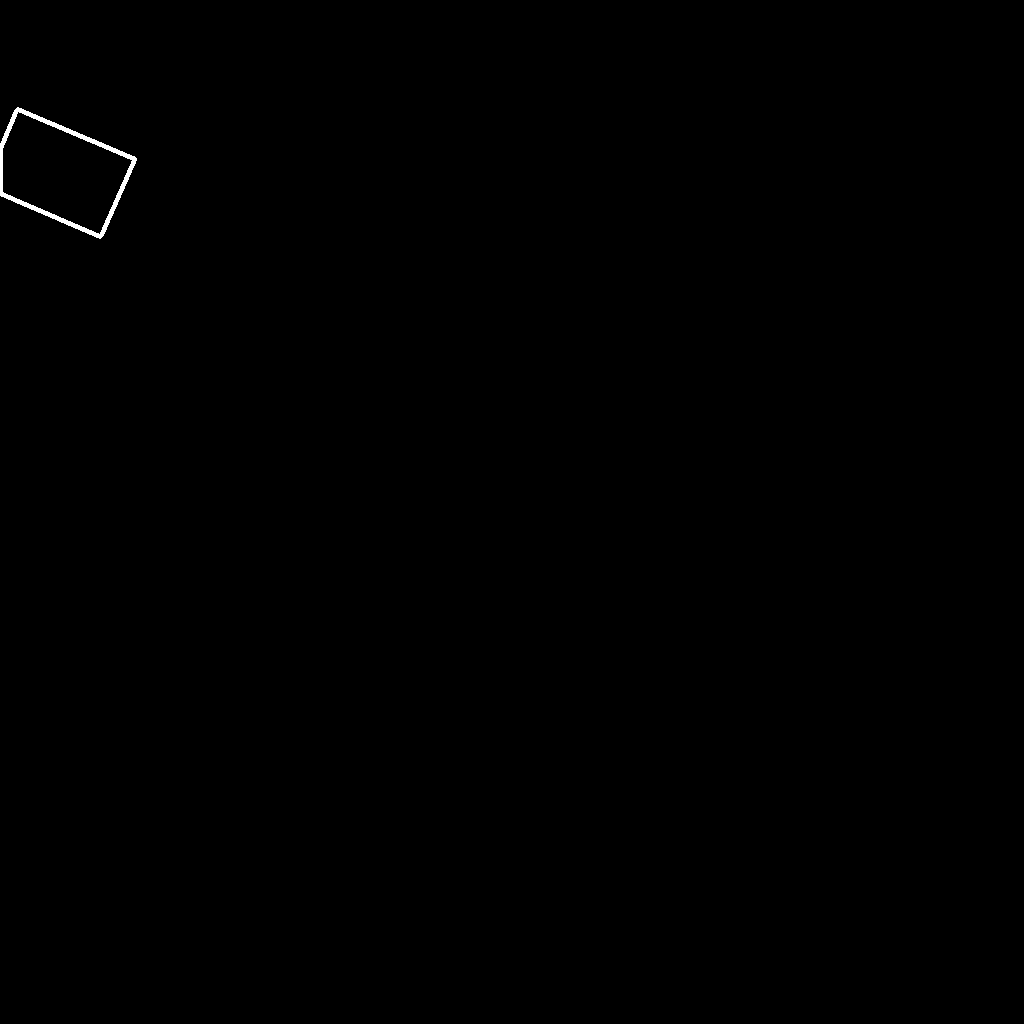building: (0, 109, 136, 238)
